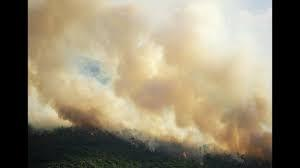yanwu: (28, 1, 271, 156)
